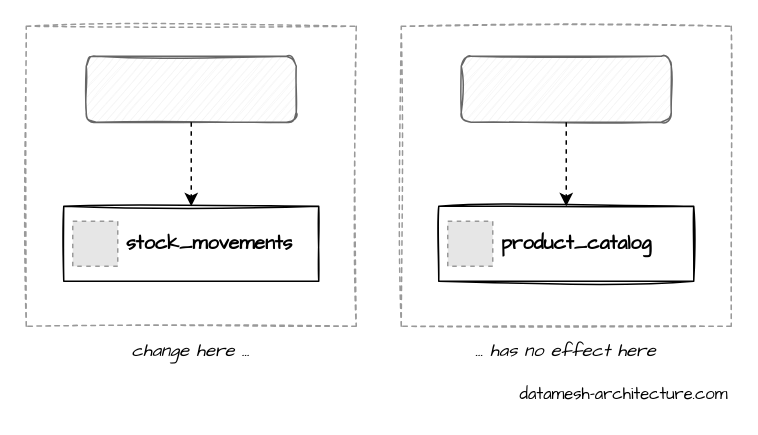
The diagram is 758 pixels wide and 435 high, and some of its shapes have lost their labels. Grey dashed boxes stand in for pictures. Each missing label, with the centre of its shape:
SAP: point (565, 88)
Warehouse System: point (190, 88)
